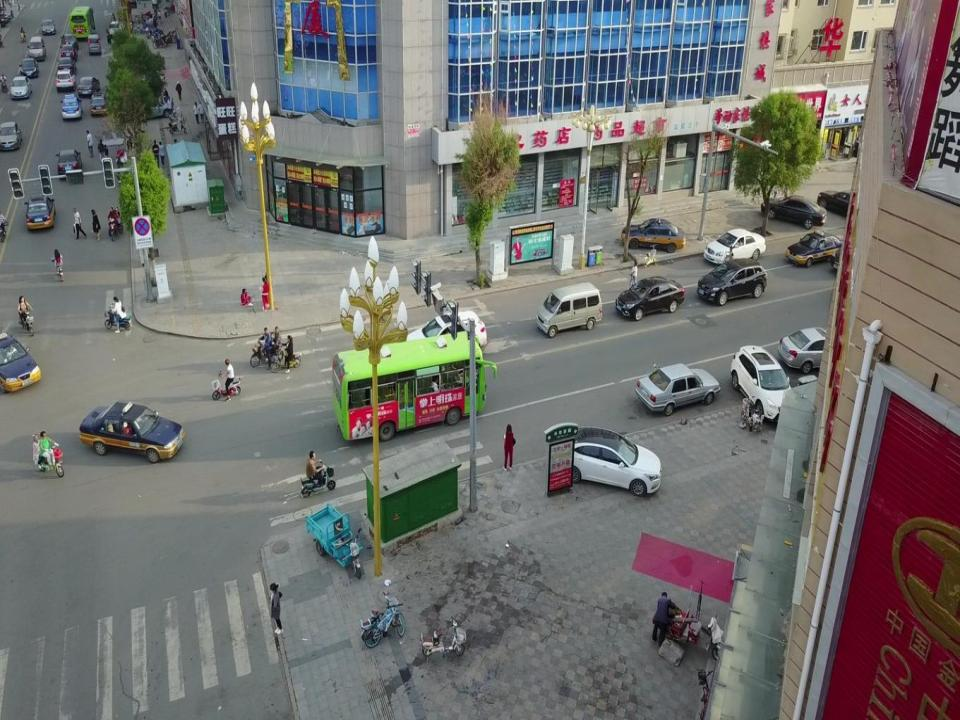bus: (332, 330, 498, 441), (68, 7, 96, 40)
car: (563, 425, 661, 495), (79, 400, 184, 463), (730, 344, 797, 428), (635, 363, 721, 417), (400, 310, 487, 360), (778, 326, 855, 376), (697, 260, 767, 304), (616, 277, 684, 320), (0, 332, 41, 392), (761, 193, 827, 230), (620, 216, 684, 252), (785, 232, 846, 268), (704, 228, 766, 262), (815, 189, 870, 224), (23, 193, 55, 231), (133, 96, 169, 120), (55, 150, 83, 180), (0, 121, 22, 152), (59, 93, 82, 120), (9, 75, 32, 100), (55, 67, 76, 92), (77, 76, 100, 95), (90, 91, 108, 115), (19, 58, 39, 79), (57, 56, 77, 74), (60, 43, 77, 61), (60, 34, 77, 51), (110, 20, 125, 38), (41, 18, 56, 35)
van: (535, 281, 602, 338), (27, 33, 46, 64), (88, 34, 102, 55)
